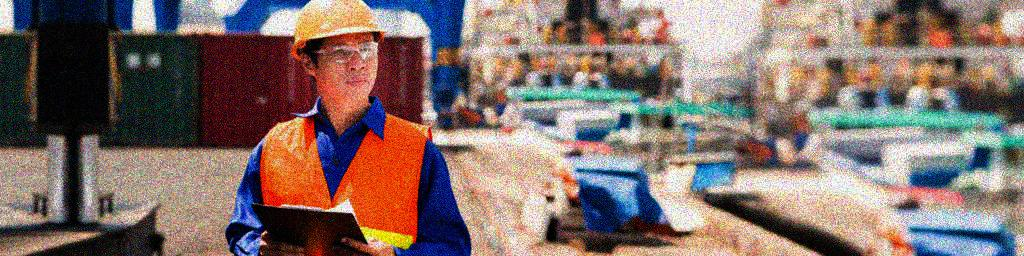helmet: (292, 1, 389, 102)
